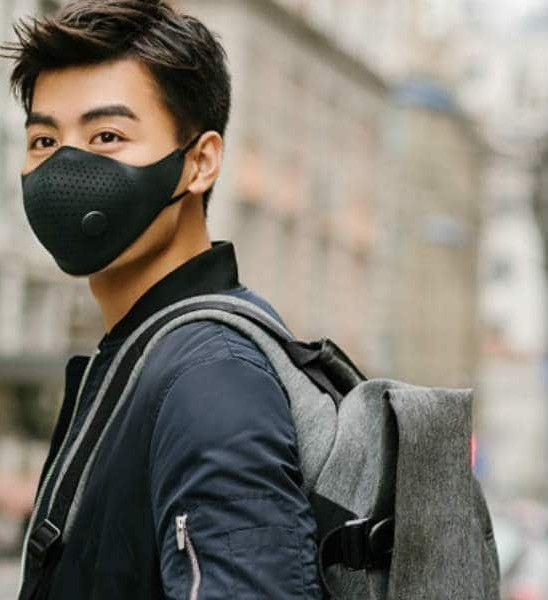with_mask: (12, 34, 223, 287)
